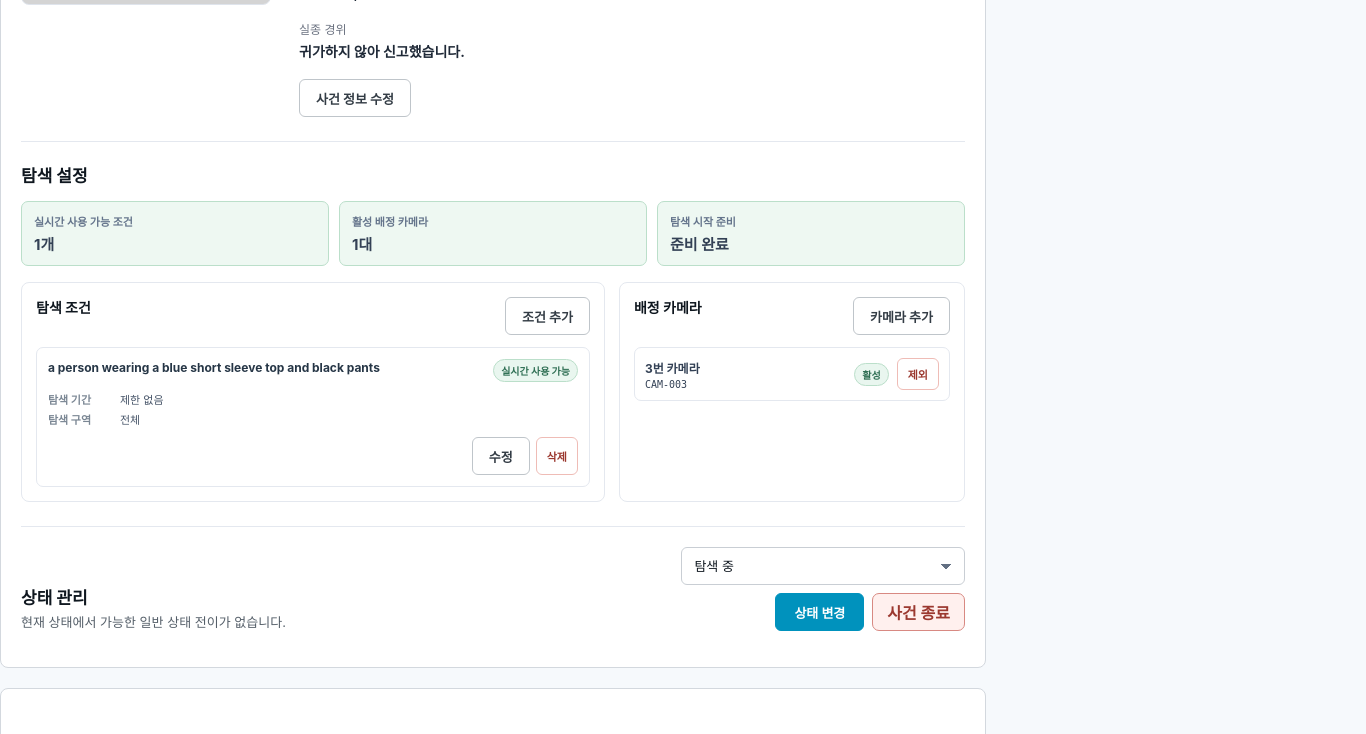
Test case: CaseDetailView › 설정 mutation 422가 외부 종료를 알리면 사건을 재조회해 읽기 전용으로 바꾼다
This screenshot has width=1366, height=734.
(page scrolled)
Click the button "제외" at (918, 374), box [897,358,939,390]
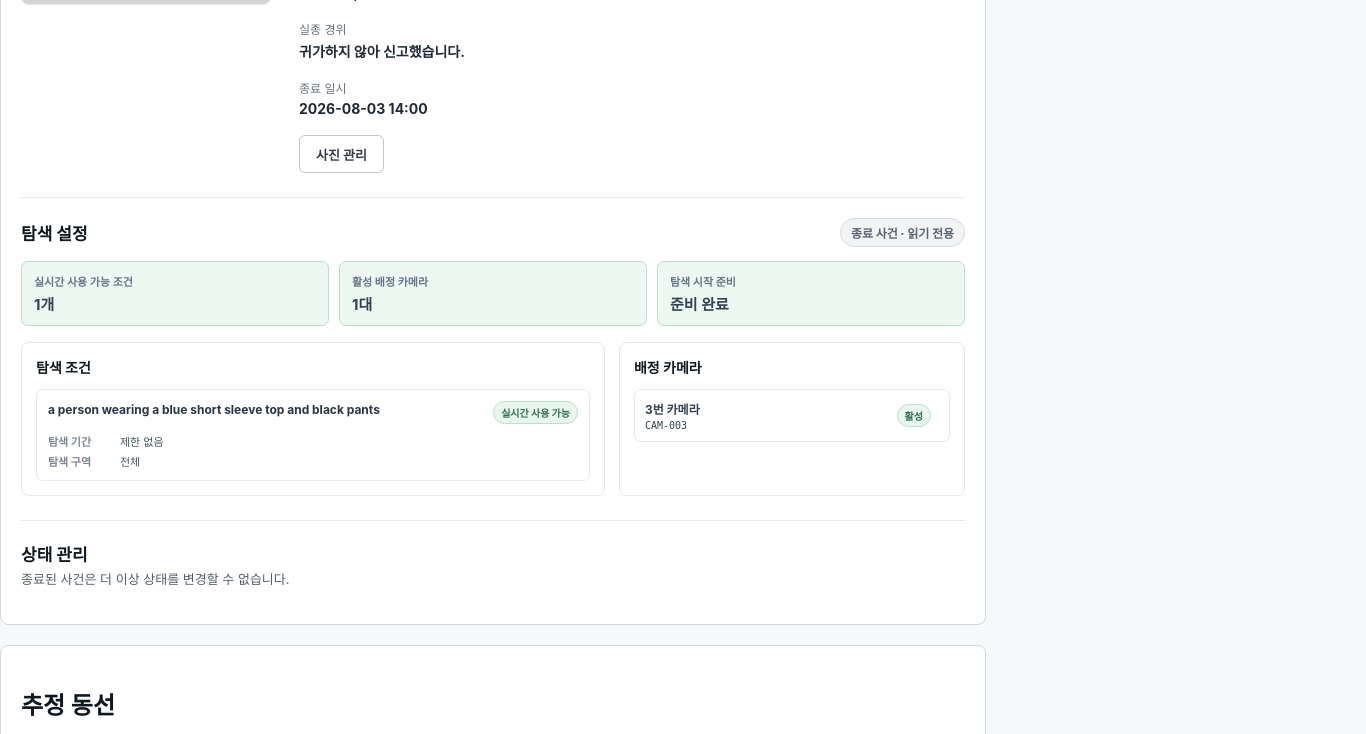
Expected: the text "종료 사건 · 읽기 전용" is shown, [840,218,965,247]
Expected: the text "종료된 사건은 더 이상 상태를 변경할 수 없습니다." is shown, [21,569,290,588]
